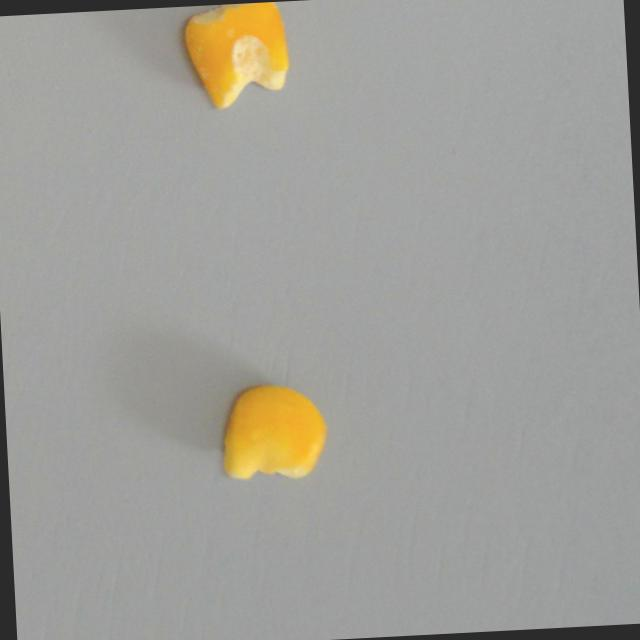no_canjicado: (179, 1, 293, 111), (221, 381, 329, 483)
